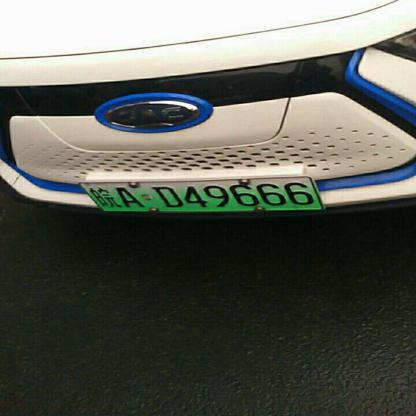lp: (78, 176, 322, 211)
